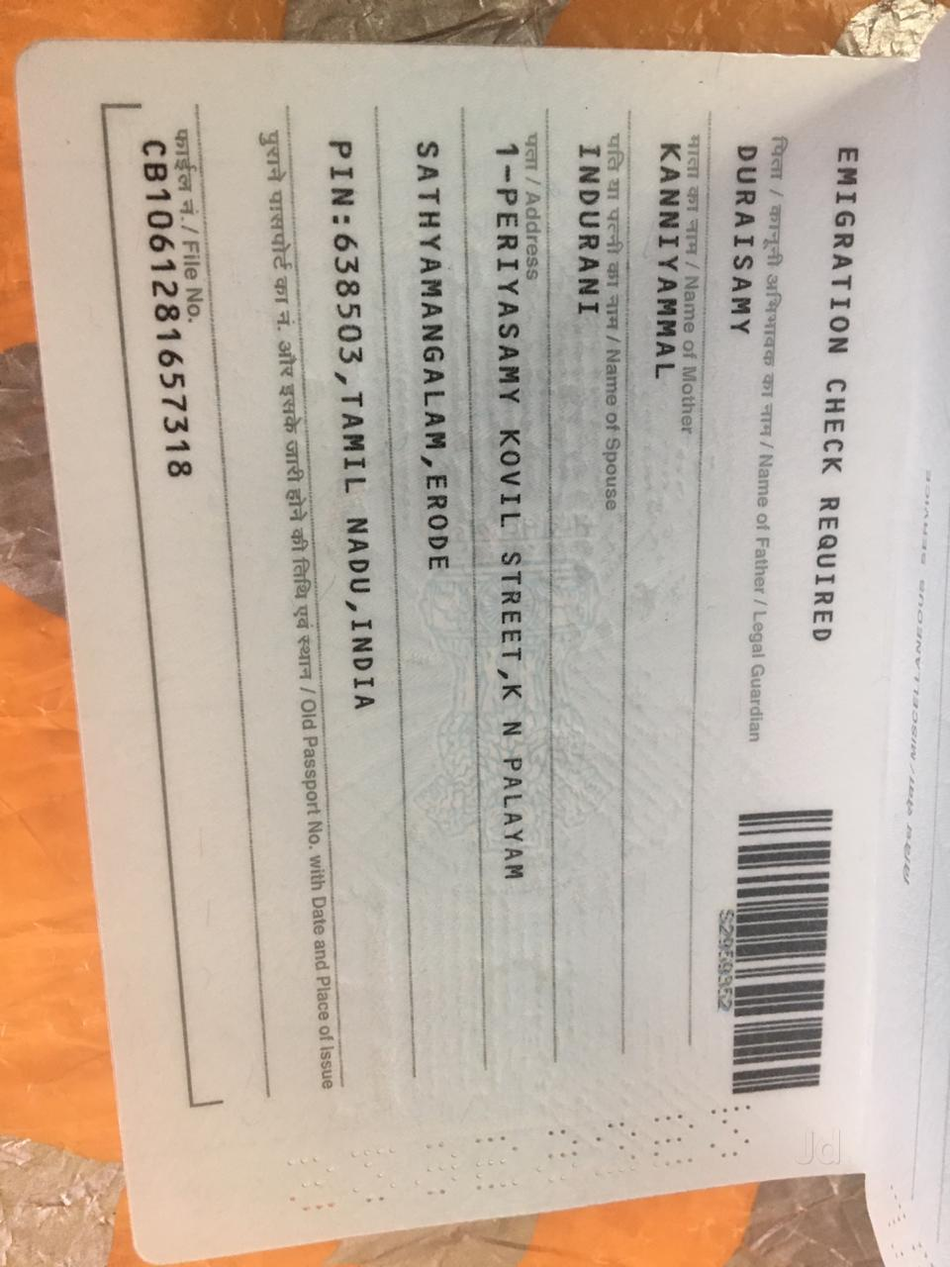File_no: (113, 121, 210, 499)
address: (299, 127, 546, 911)
father_name: (720, 121, 779, 365)
mother_name: (643, 116, 697, 401)
passport_no: (711, 901, 748, 1025)
spouse_name: (562, 124, 613, 356)
